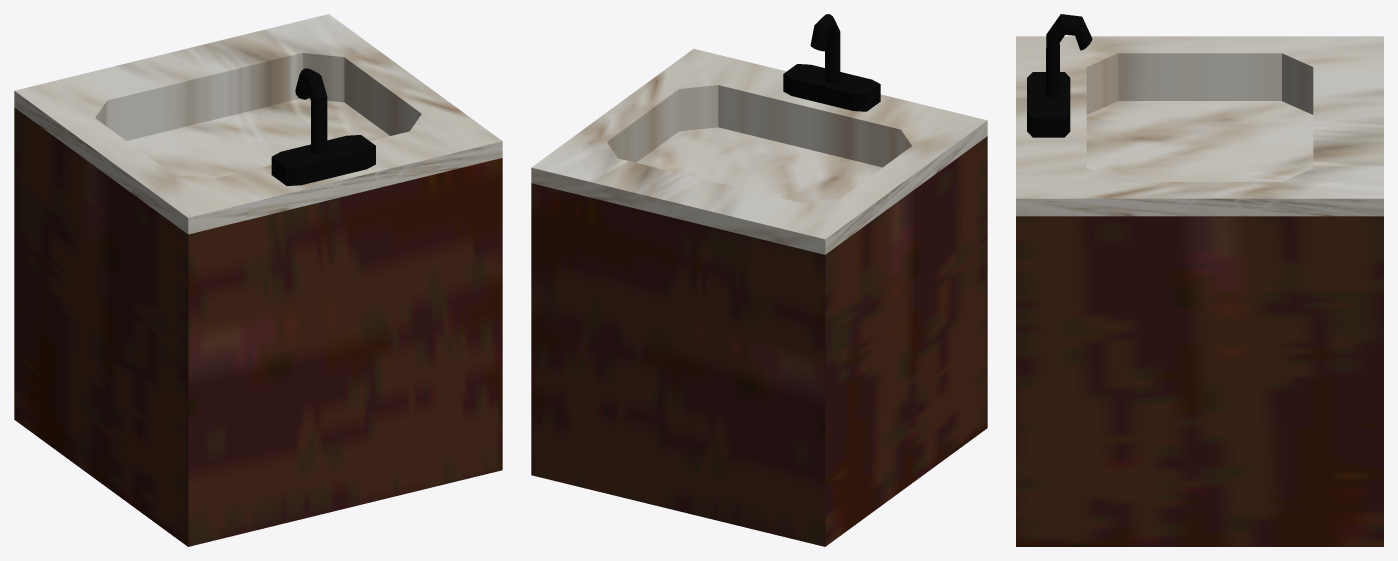
File: KitchenSink.fbx
3 renders of one model, left to right at view 1: azimuth 30°, elevation 25°; view 2: azimuth 150°, elevation 25°; view 3: azimuth 270°, elevation 25°, orthographic. The views are drawn at different scales.
Visible parts, largest first — view 1: KitchenSink; view 2: KitchenSink; view 3: KitchenSink.
Part boxes in pixels (left/top/right/bottom): KitchenSink: left=14, top=14, right=502, bottom=546; KitchenSink: left=531, top=14, right=987, bottom=546; KitchenSink: left=1016, top=14, right=1383, bottom=546.
Size of the model in its own units: 100 by 128 by 95.73.
